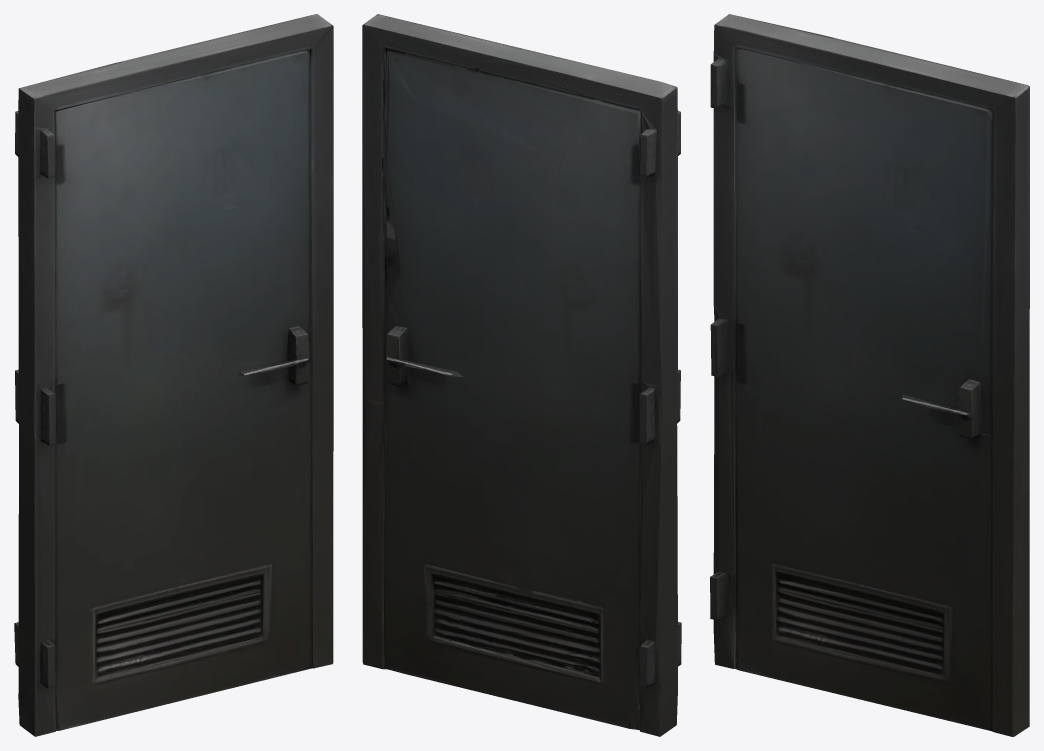
File: metal-door-simple.glb
The picture shows the model from 3 angles, left to right: view 1: azimuth 30°, elevation 25°; view 2: azimuth 150°, elevation 25°; view 3: azimuth 330°, elevation 25°; orthographic projection.
Parts seen in each view (by area): view 1: geometry_0; view 2: geometry_0; view 3: geometry_0.
Boxes of the visible parts, x1,y1,x2,y2 form: geometry_0: [14, 14, 333, 736]; geometry_0: [362, 14, 681, 736]; geometry_0: [710, 14, 1029, 736].
Bounding box in the file's own units: 0.4922 × 1 × 0.1171.
1 material, 1 textured.
